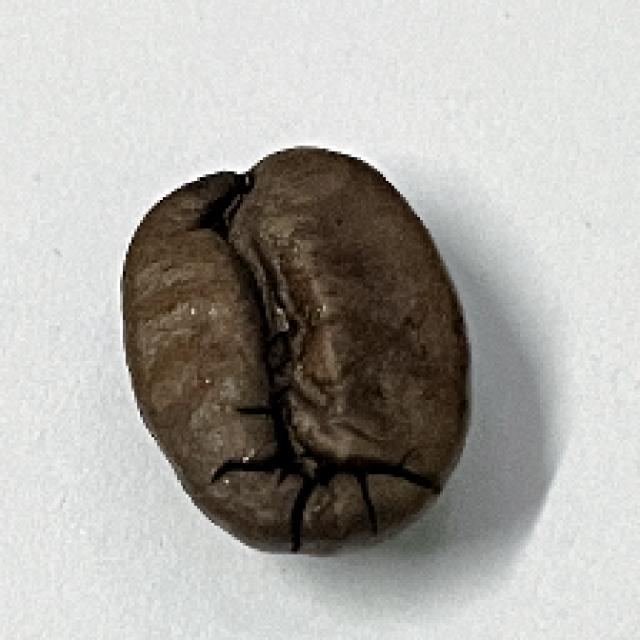bean: (118, 140, 478, 562)
